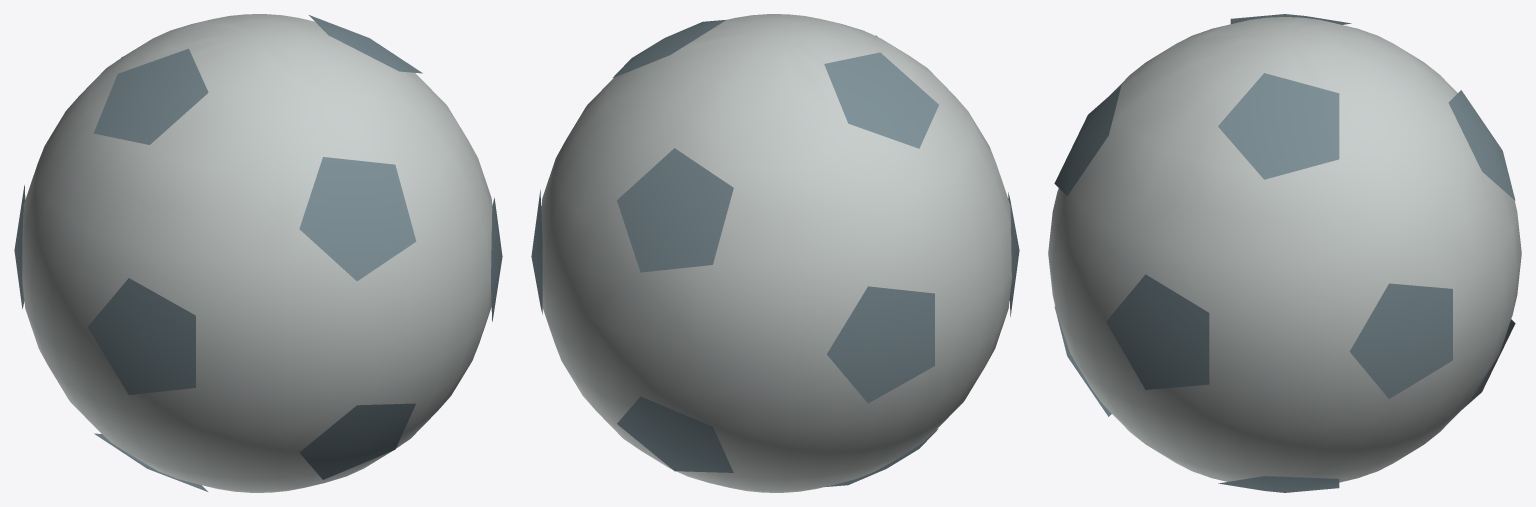
File: football.glb
The picture shows the model from 3 angles, left to right: view 1: azimuth 30°, elevation 25°; view 2: azimuth 150°, elevation 25°; view 3: azimuth 270°, elevation 25°; orthographic projection.
Parts seen in each view (by area): view 1: ball, pentagon_3, pentagon_10, pentagon_5, pentagon_1, pentagon_7, pentagon_11, pentagon_8; view 2: ball, pentagon_2, pentagon_8, pentagon_5, pentagon_0, pentagon_7, pentagon_9, pentagon_10; view 3: ball, pentagon_7, pentagon_11, pentagon_9, pentagon_2, pentagon_3, pentagon_6.
Boxes of the visible parts, bbox=[...] form: ball: bbox=[22, 14, 492, 492]; pentagon_3: bbox=[299, 157, 416, 281]; pentagon_10: bbox=[87, 278, 195, 394]; pentagon_5: bbox=[93, 48, 208, 144]; pentagon_1: bbox=[299, 403, 415, 479]; pentagon_7: bbox=[309, 15, 422, 73]; pentagon_11: bbox=[491, 197, 502, 321]; pentagon_8: bbox=[14, 185, 25, 309]; ball: bbox=[541, 14, 1011, 492]; pentagon_2: bbox=[617, 148, 733, 272]; pentagon_8: bbox=[827, 286, 934, 403]; pentagon_5: bbox=[824, 52, 938, 148]; pentagon_0: bbox=[617, 396, 733, 472]; pentagon_7: bbox=[612, 19, 726, 78]; pentagon_9: bbox=[531, 190, 542, 314]; pentagon_10: bbox=[1008, 192, 1019, 316]; ball: bbox=[1048, 17, 1521, 482]; pentagon_7: bbox=[1218, 73, 1339, 179]; pentagon_11: bbox=[1106, 274, 1209, 389]; pentagon_9: bbox=[1349, 283, 1452, 398]; pentagon_2: bbox=[1448, 90, 1515, 200]; pentagon_3: bbox=[1054, 85, 1121, 195]; pentagon_6: bbox=[1218, 476, 1339, 492].
Size of the model in its own units: 0.22 by 0.22 by 0.22.
